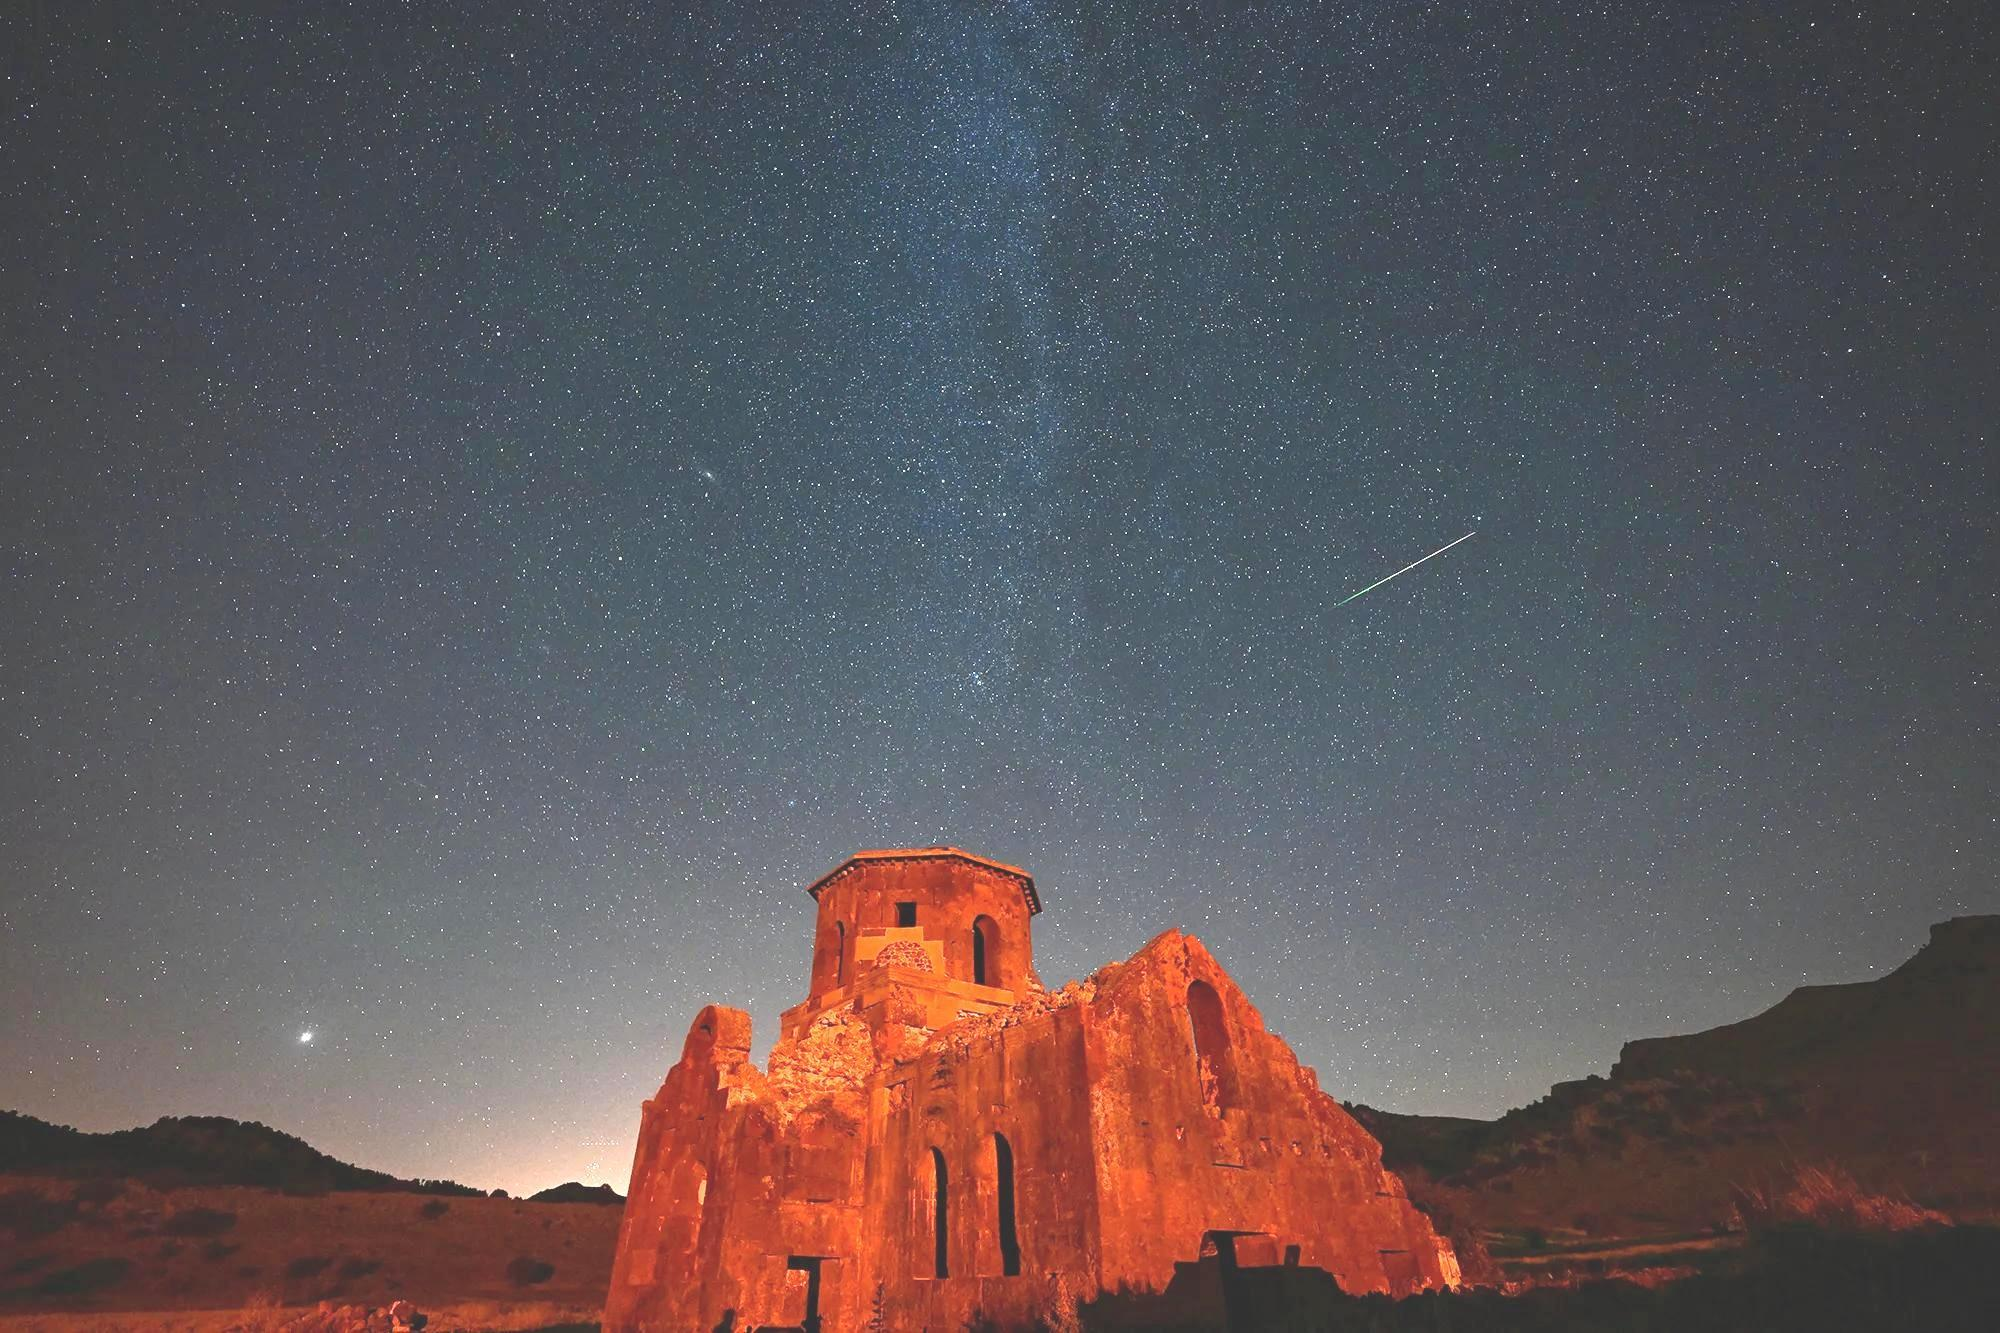meteorite: (1316, 518, 1502, 622)
